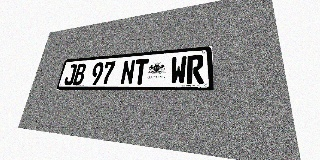7: (100, 61, 116, 85)
9: (90, 62, 105, 85)
B: (72, 63, 87, 85)
J: (63, 64, 77, 85)
N: (120, 60, 136, 85)
R: (187, 54, 204, 84)
T: (133, 59, 149, 85)
W: (170, 56, 187, 84)
